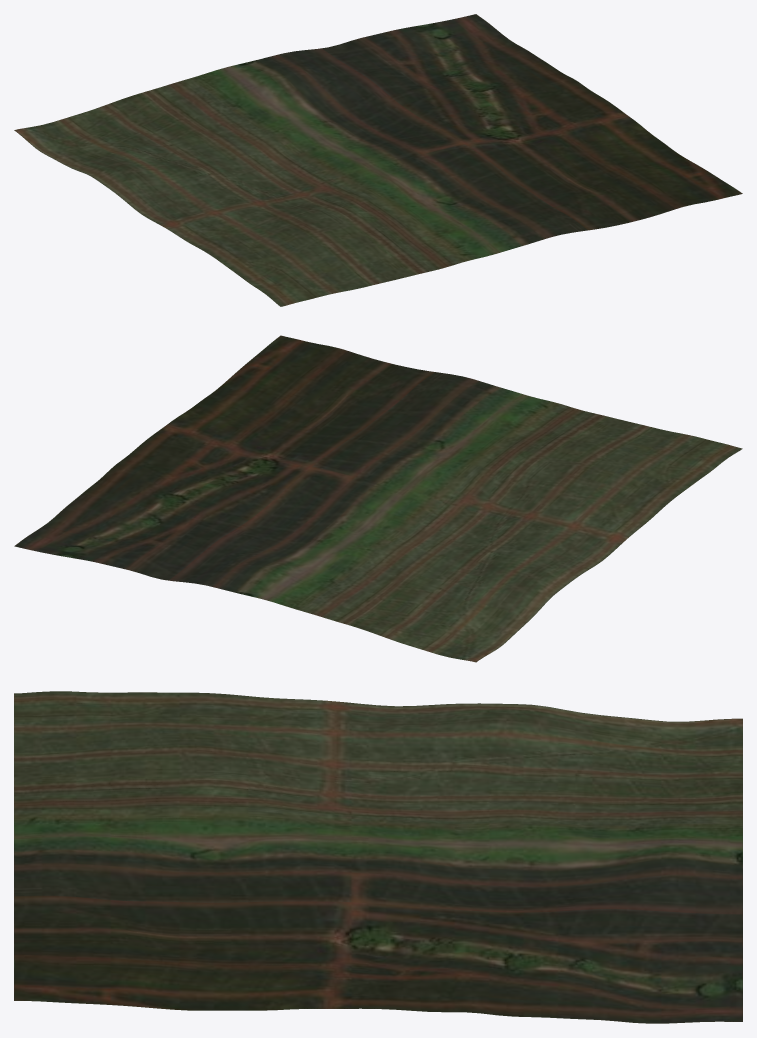
File: twin.glb
3 renders of one model, top to bottom at view 1: azimuth 30°, elevation 25°; view 2: azimuth 150°, elevation 25°; view 3: azimuth 270°, elevation 25°, orthographic. The views are drawn at different scales.
Visible parts, largest first — view 1: terrain; view 2: terrain; view 3: terrain.
Part boxes in pixels (bbox=[...]): terrain: bbox=[14, 14, 742, 306]; terrain: bbox=[14, 335, 742, 662]; terrain: bbox=[14, 691, 742, 1023].
Size of the model in its own units: 400 by 22.5 by 400.
1 material, 1 textured.
